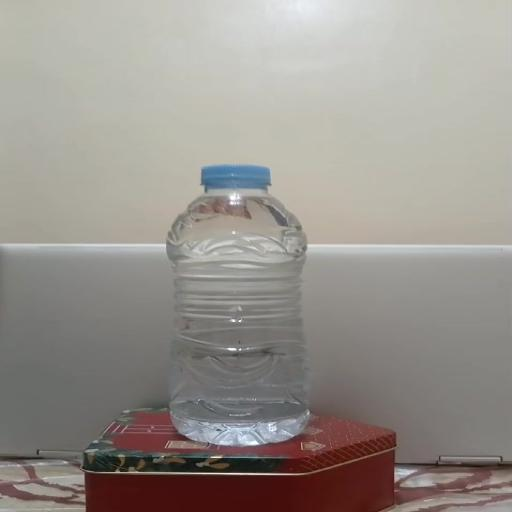bouteille non conformite: (127, 162, 378, 439)
